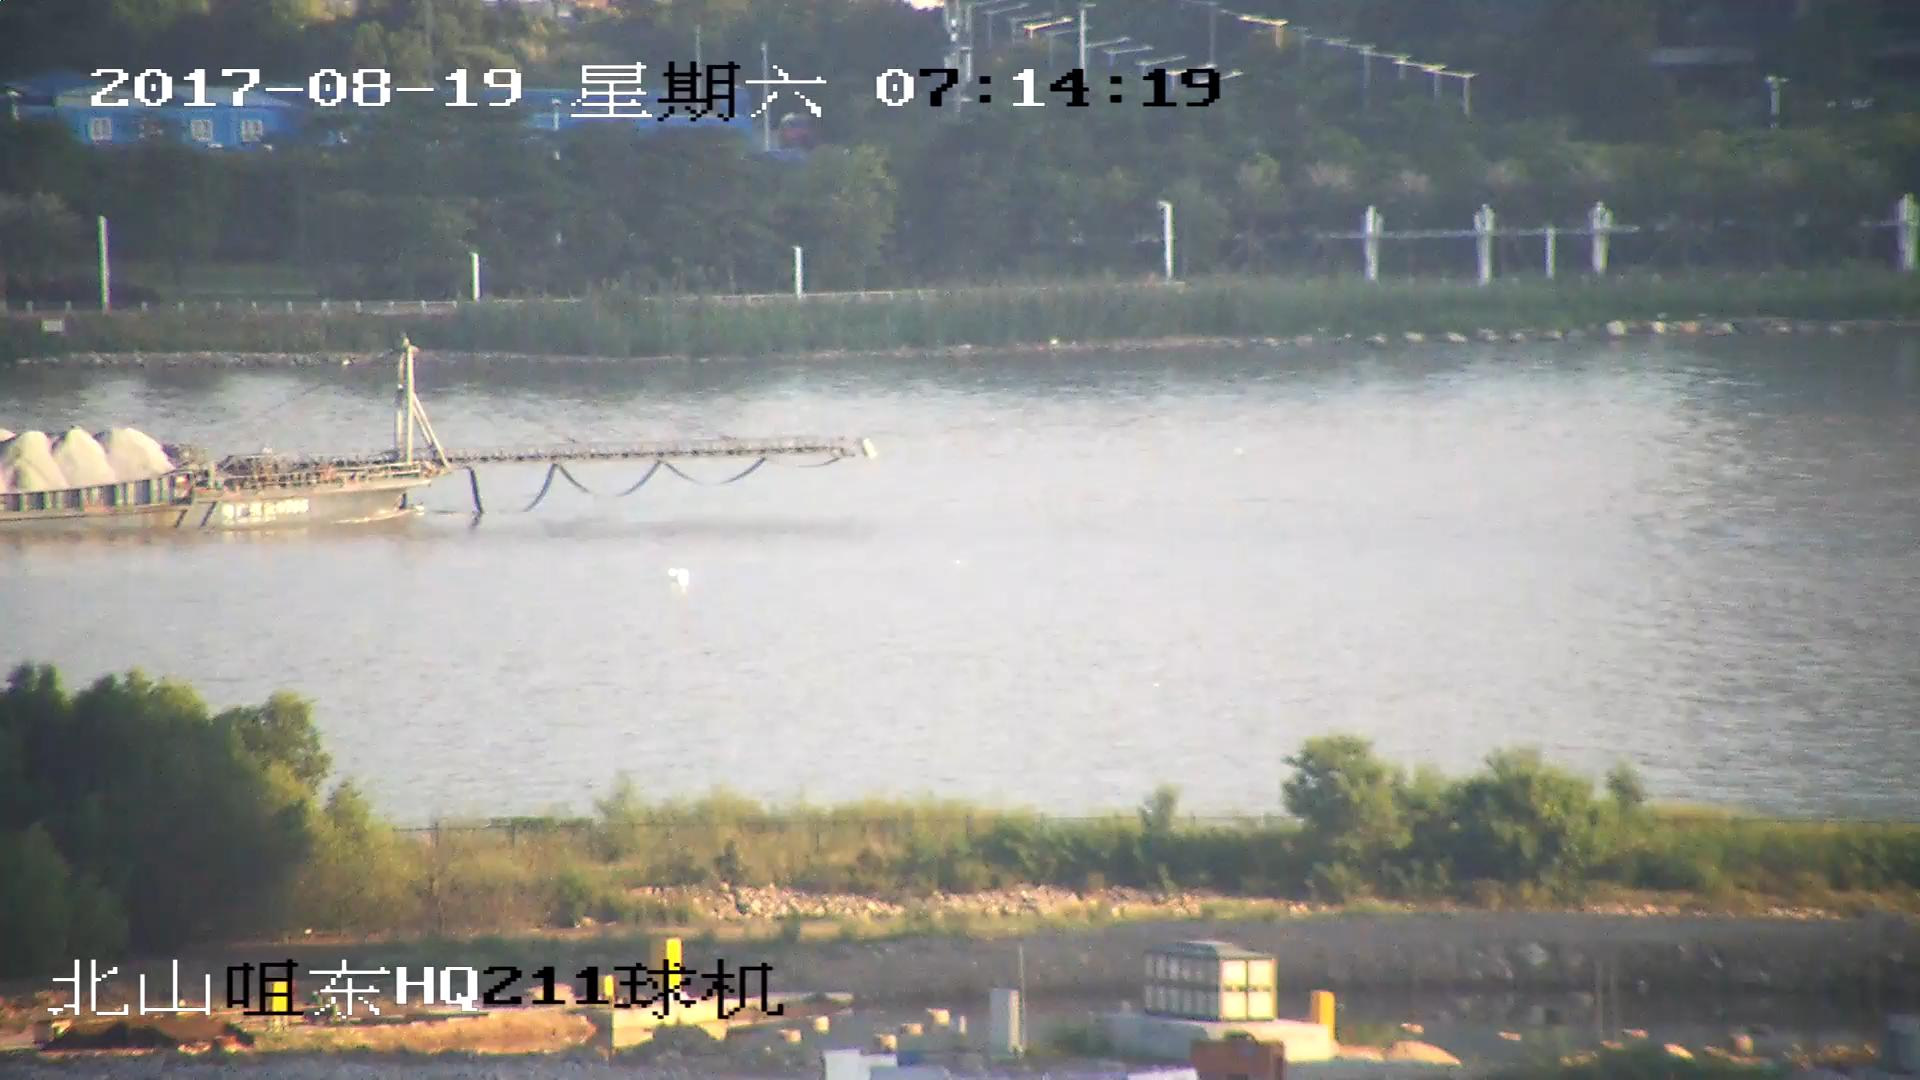ore carrier: (1, 337, 869, 534)
